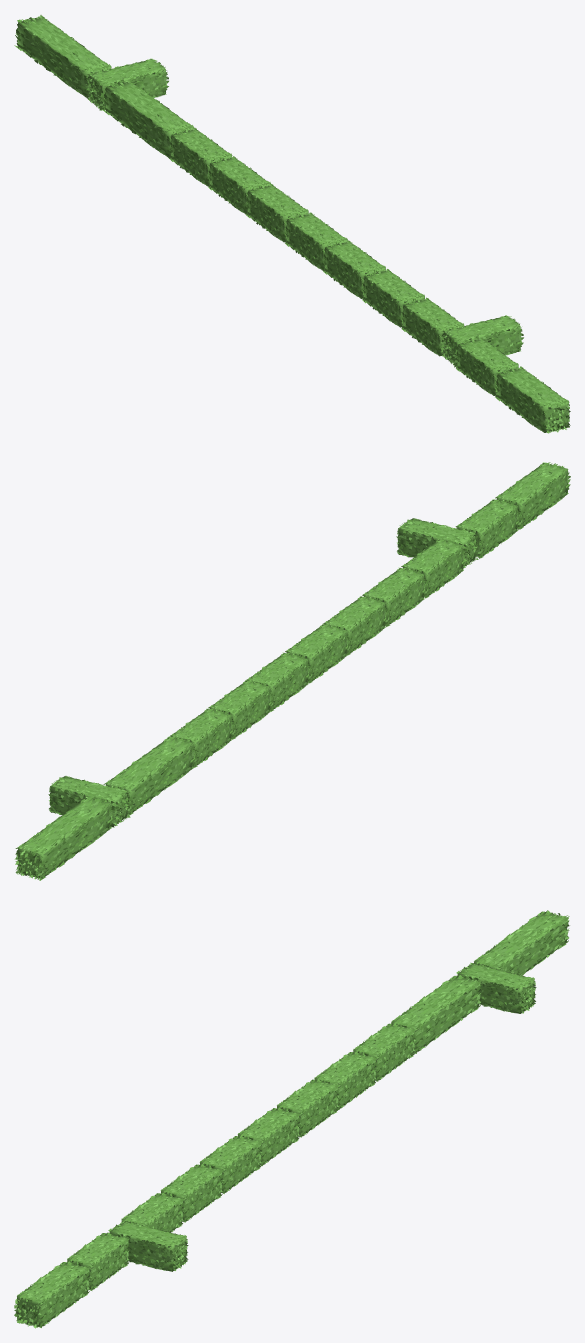
Rendered from BUSH2.fbx.
The picture shows the model from 3 angles, top to bottom: view 1: azimuth 30°, elevation 25°; view 2: azimuth 150°, elevation 25°; view 3: azimuth 330°, elevation 25°; orthographic projection.
Parts seen in each view (by area): view 1: Cube.562; view 2: Cube.562; view 3: Cube.562.
Part boxes in pixels (x1,y1,x2,y2): Cube.562: [14, 15, 570, 433]; Cube.562: [14, 462, 570, 880]; Cube.562: [14, 910, 569, 1328].
Size of the model in its own units: 4006 by 1469 by 50575.
